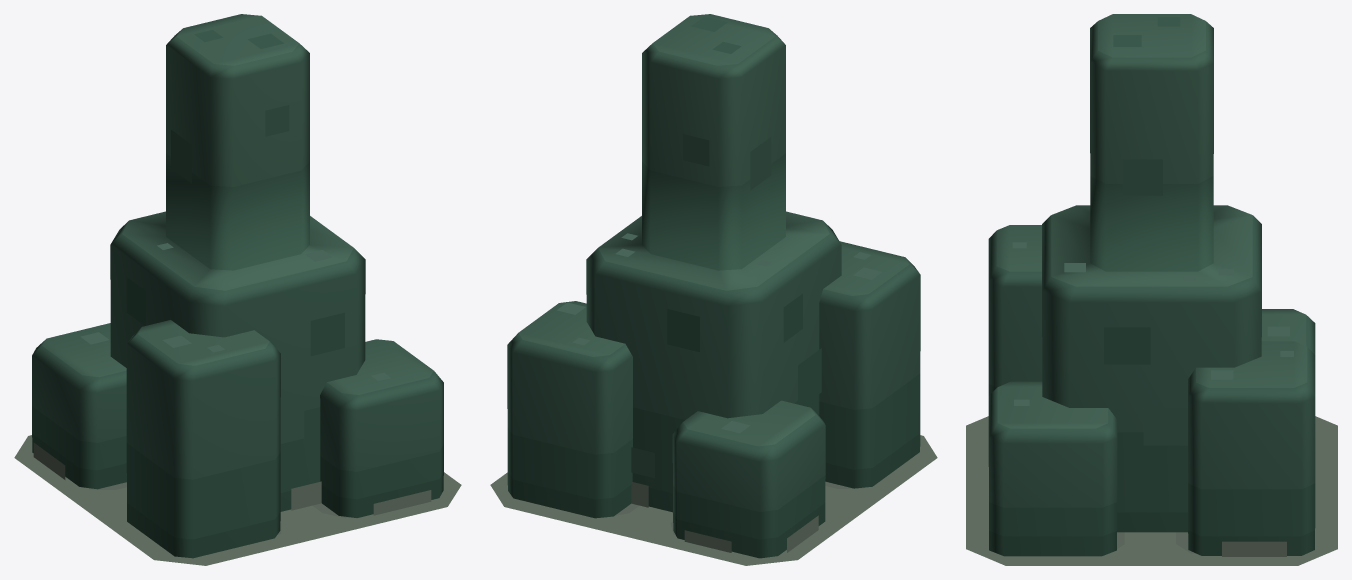
Rendered from B_cave2_rock02.fbx.
3 renders of one model, left to right at view 1: azimuth 30°, elevation 25°; view 2: azimuth 150°, elevation 25°; view 3: azimuth 270°, elevation 25°, orthographic. The views are drawn at different scales.
Parts seen in each view (by area): view 1: model 1, model; view 2: model 1, model; view 3: model 1, model.
Boxes of the visible parts, left/top/right/bottom form: model 1: left=14, top=14, right=461, bottom=565; model: left=16, top=435, right=459, bottom=564; model 1: left=490, top=14, right=937, bottom=565; model: left=492, top=436, right=935, bottom=564; model 1: left=966, top=14, right=1337, bottom=565; model: left=967, top=417, right=1336, bottom=565.
Size of the model in its own units: 4.83 by 6.53 by 4.83.
